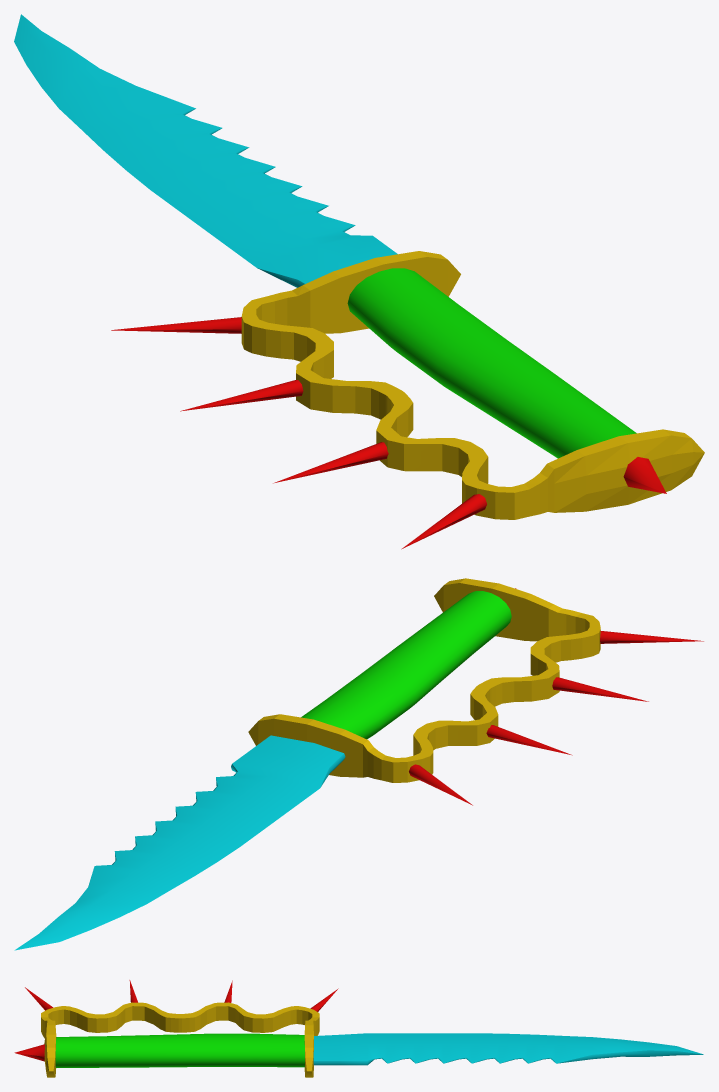
The model's file is PA_TrenchKnifeB.fbx.
3 renders of one model, top to bottom at view 1: azimuth 30°, elevation 25°; view 2: azimuth 150°, elevation 25°; view 3: azimuth 270°, elevation 25°, orthographic. The views are drawn at different scales.
Parts seen in each view (by area): view 1: Box001; view 2: Box001; view 3: Box001.
Part boxes in pixels (left/top/right/bottom): Box001: left=14, top=14, right=704, bottom=549; Box001: left=14, top=578, right=703, bottom=950; Box001: left=14, top=980, right=703, bottom=1077.
Bounding box in the file's own units: 6.69 × 1.11 × 21.24.
